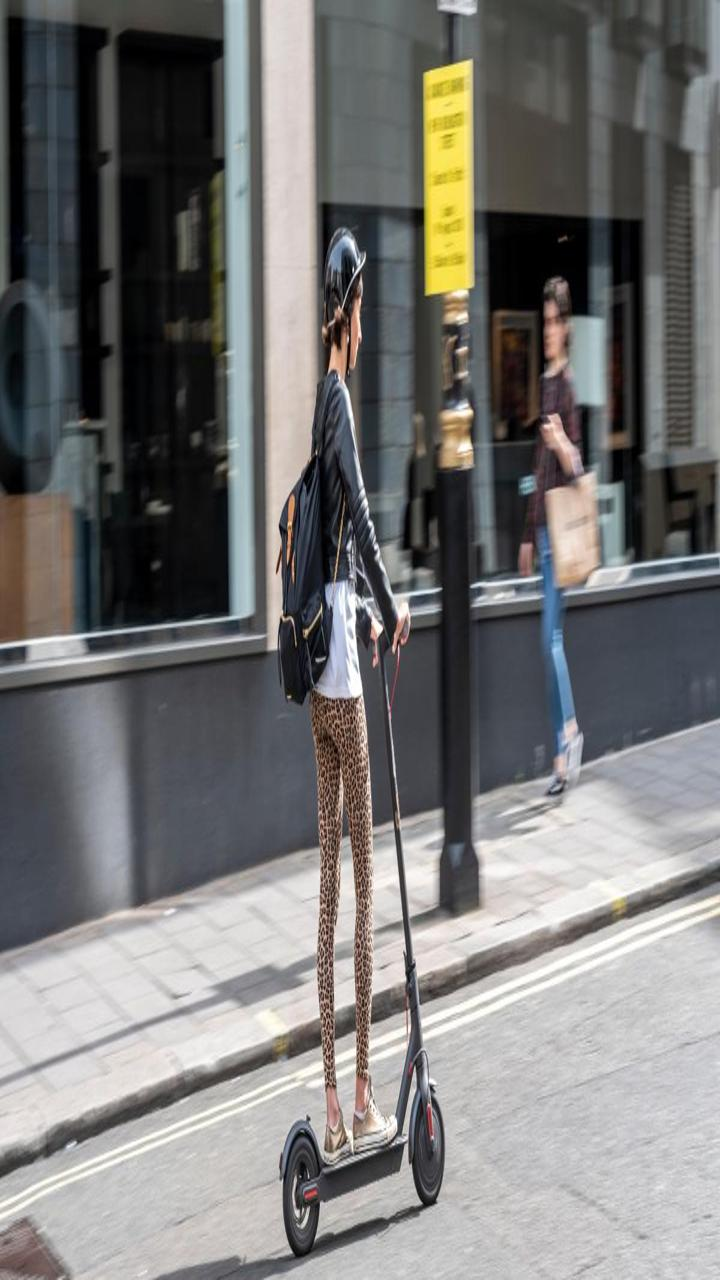pedestrian: (250, 219, 402, 1147), (472, 197, 622, 843)
scooter: (194, 665, 523, 1279)
